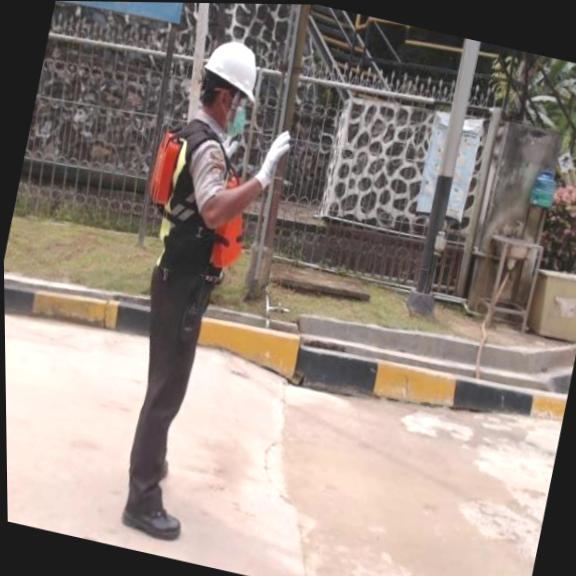safety_vest: (127, 128, 263, 291)
